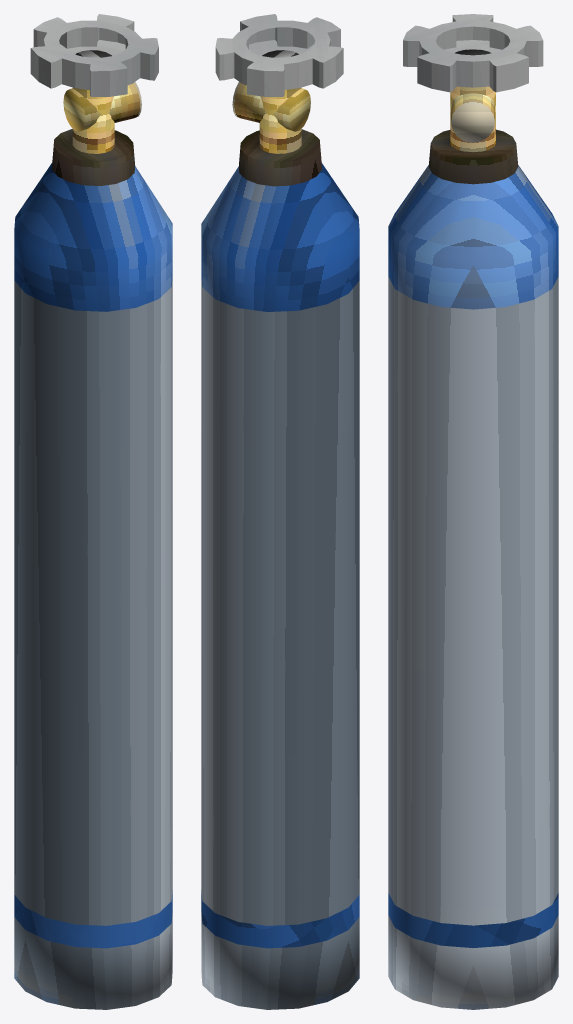
File: WorldItem_HCWeldingTank.fbx
3 renders of one model, left to right at view 1: azimuth 30°, elevation 25°; view 2: azimuth 150°, elevation 25°; view 3: azimuth 270°, elevation 25°, orthographic.
Visible parts, largest first — view 1: Cylinder; view 2: Cylinder; view 3: Cylinder.
Boxes of the visible parts, left/top/right/bottom form: Cylinder: left=14, top=14, right=172, bottom=1009; Cylinder: left=201, top=14, right=359, bottom=1009; Cylinder: left=388, top=14, right=558, bottom=1009.
Size of the model in its own units: 0.1328 by 0.8685 by 0.1433.
